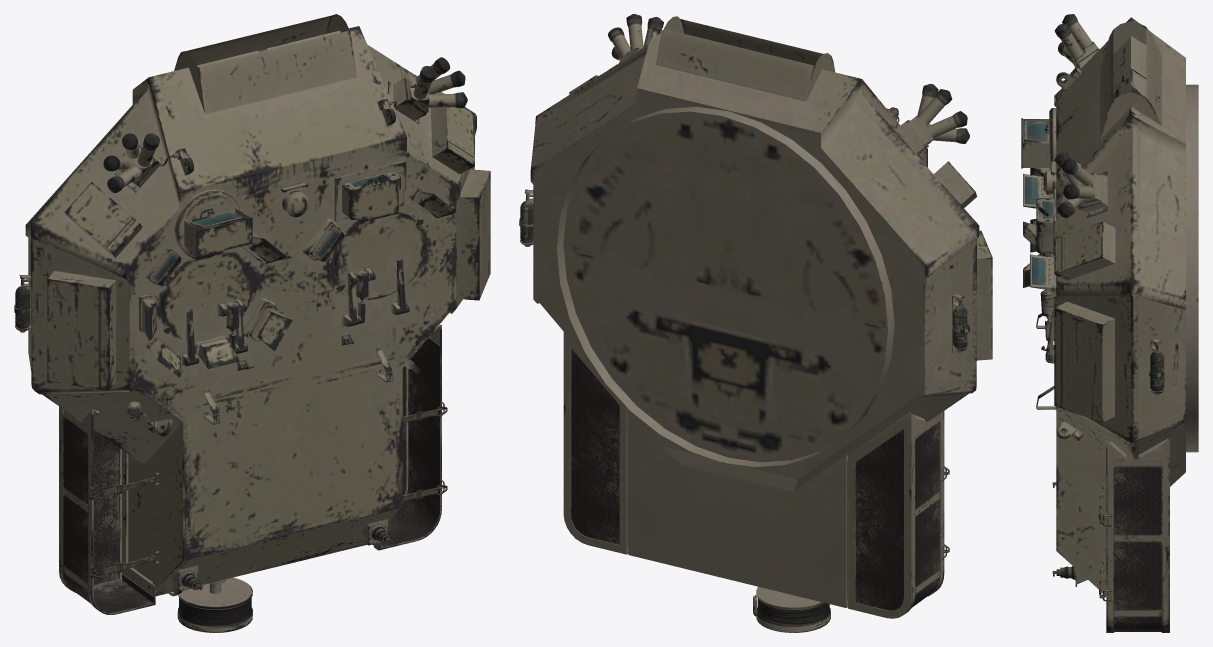
File: Turret_01.glb
3 renders of one model, left to right at view 1: azimuth 30°, elevation 25°; view 2: azimuth 150°, elevation 25°; view 3: azimuth 270°, elevation 25°, orthographic. The views are drawn at different scales.
Parts seen in each view (by area): view 1: set_0_group_0; view 2: set_0_group_0; view 3: set_0_group_0.
Part boxes in pixels (left/top/right/bottom): set_0_group_0: left=14, top=14, right=490, bottom=632; set_0_group_0: left=519, top=14, right=992, bottom=632; set_0_group_0: left=1021, top=14, right=1198, bottom=632.
Bounding box in the file's own units: 2.77 × 3.35 × 0.985.
1 material, 1 textured.
